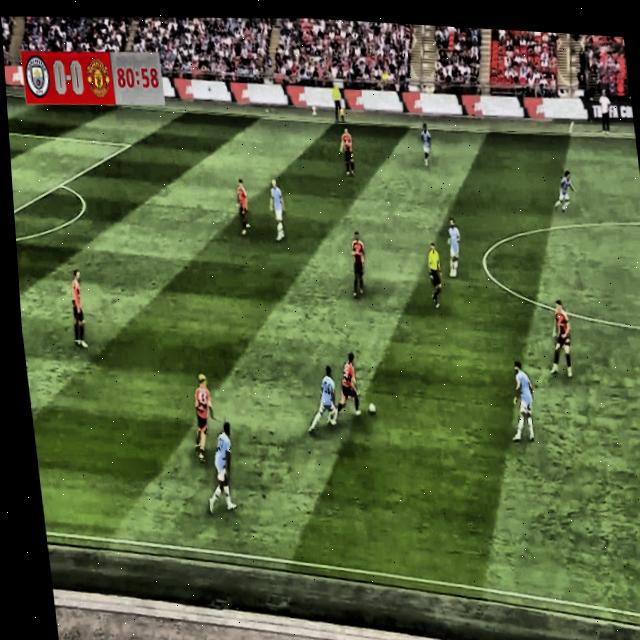ball: (364, 398, 381, 426)
players: (195, 411, 244, 515), (185, 364, 223, 475), (295, 366, 344, 450), (542, 293, 581, 384), (326, 349, 366, 434), (503, 358, 542, 445), (62, 269, 95, 355), (343, 228, 376, 302), (549, 164, 579, 226), (443, 214, 469, 283), (267, 175, 292, 246), (231, 173, 259, 236), (337, 121, 361, 185), (413, 111, 436, 170)
refree: (419, 236, 454, 313), (327, 73, 350, 128)
